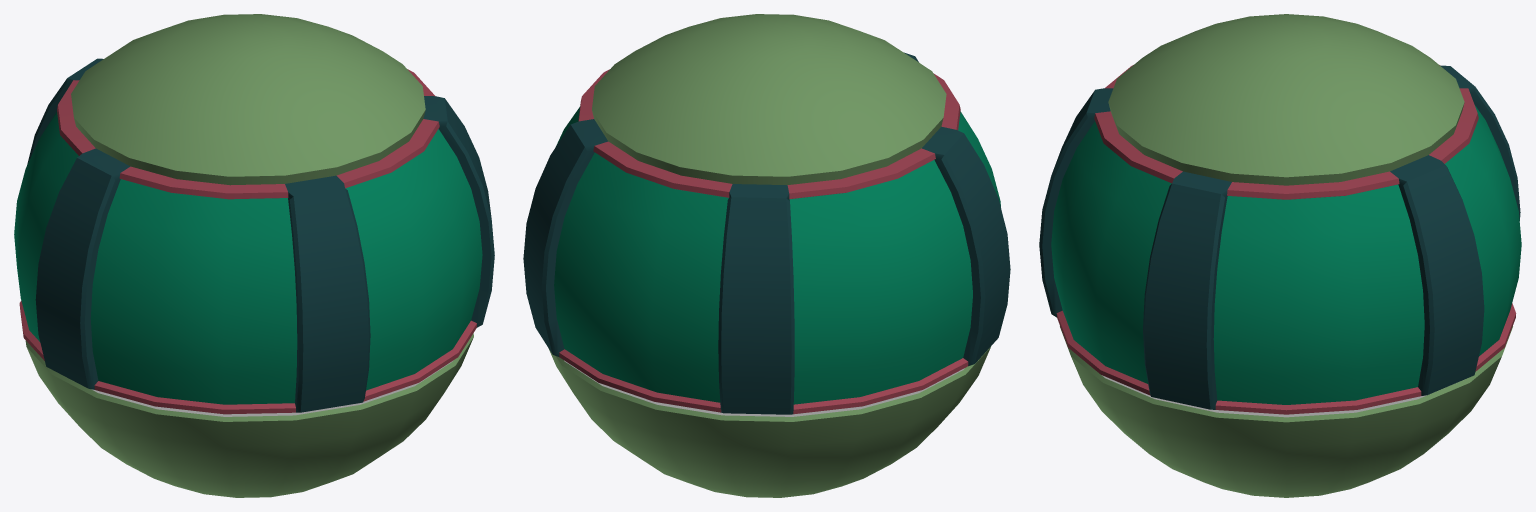
The model's file is Bola Nueva.fbx.
3 renders of one model, left to right at view 1: azimuth 30°, elevation 25°; view 2: azimuth 150°, elevation 25°; view 3: azimuth 270°, elevation 25°, orthographic.
Visible parts, largest first — view 1: pSphere2; view 2: pSphere2; view 3: pSphere2.
Part boxes in pixels (bbox=[...]): pSphere2: bbox=[14, 14, 494, 497]; pSphere2: bbox=[523, 14, 1010, 497]; pSphere2: bbox=[1039, 14, 1521, 497].
Size of the model in its own units: 1.95 by 1.95 by 1.95.
